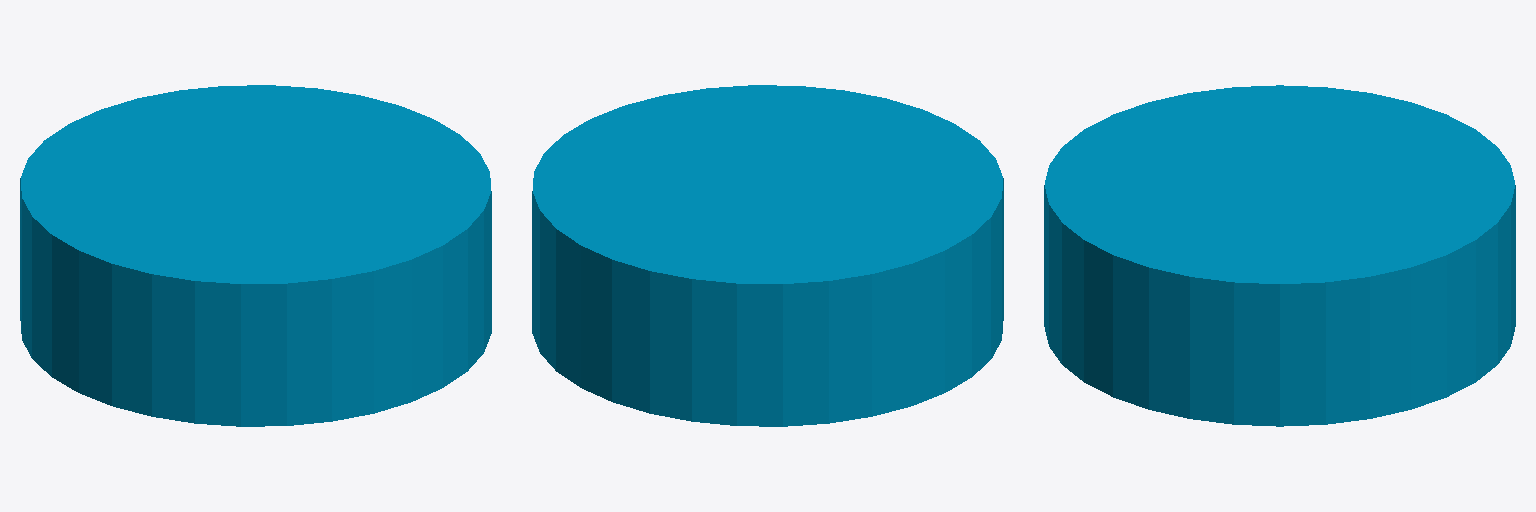
URDF robot description (my_contour):
<?xml version="1.0" ?>
<robot name="my_contour">
  <link name="contourLink">
    <inertial>
      <origin rpy="0 0 0" xyz="0 0 0"/>
       <mass value=".0"/>
       <inertia ixx="0" ixy="0" ixz="0" iyy="0" iyz="0" izz="0"/>
    </inertial>
    <visual>
      <origin rpy="0 0 1.5707" xyz="0.50 0 0.05"/>
      <geometry>
                <cylinder radius="0.15" length="0.1"/> 
      </geometry>
       <material name="white">
        <color rgba="0.02 0.63 0.80 1"/>
      </material>
    </visual>
    <collision>
      <origin rpy="0 0 0" xyz="0.5 0 0.05"/>
      <geometry>
                <cylinder radius="0.15" length="0.1"/> 
      </geometry>
    </collision>
  </link>
</robot>

--- Facts derived from the render (not from the file) ---
Views: 3 orthographic renders of the robot side by side, from view 1: azimuth 30°, elevation 25°; view 2: azimuth 150°, elevation 25°; view 3: azimuth 270°, elevation 25°.
Model my_contour with 1 links and 0 joints (none), rooted at contourLink, posed all joints at 0.
Links seen in each view (by area): view 1: contourLink; view 2: contourLink; view 3: contourLink.
Link boxes in pixels (box(x1,y1,x2,y2)): contourLink: box(20, 85, 491, 426); contourLink: box(532, 85, 1003, 426); contourLink: box(1044, 85, 1515, 426).
Size in the robot's own frame: 0.3 by 0.3 by 0.1 metres.
Geometry: primitives only (box / cylinder / sphere), no mesh files.
